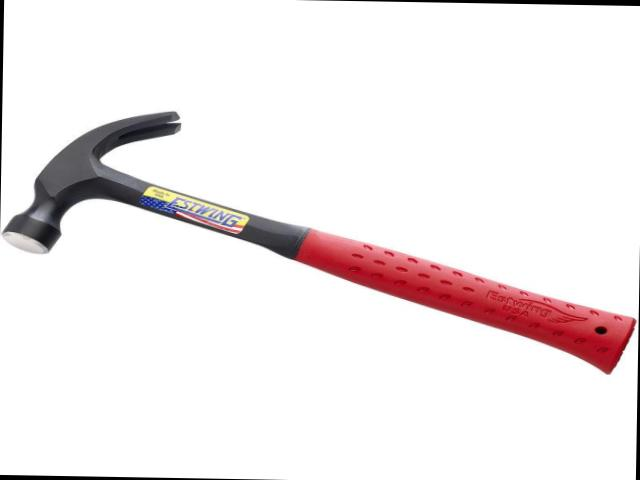hammer: (0, 107, 640, 375)
